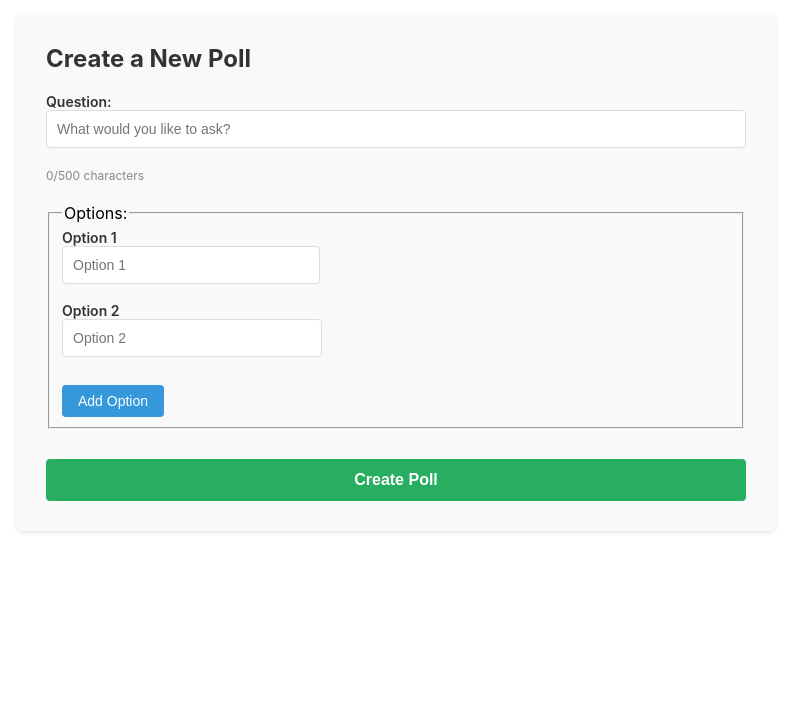
Test: HostDashboard - API Response Handling Contract Tests (Feature #003 Bug Fix) › setPoll receives API response directly (not response.data)
Type "What is your favorite color?" into the field labelled "Question:". click: (396, 129)
box: [46, 110, 746, 148]
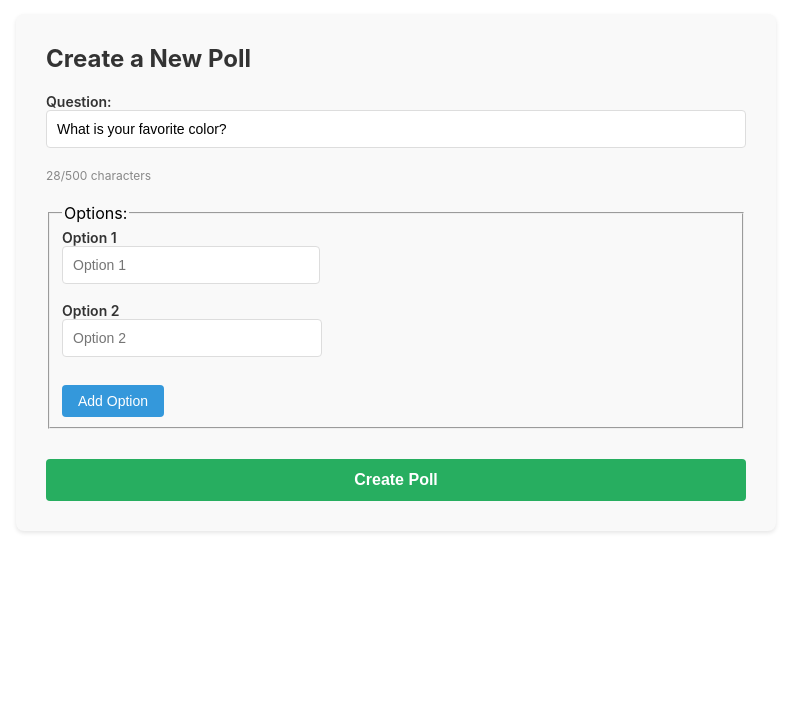
Type "Red" into the field with placeholder "Option 1". click: (191, 264)
box: [62, 246, 320, 284]
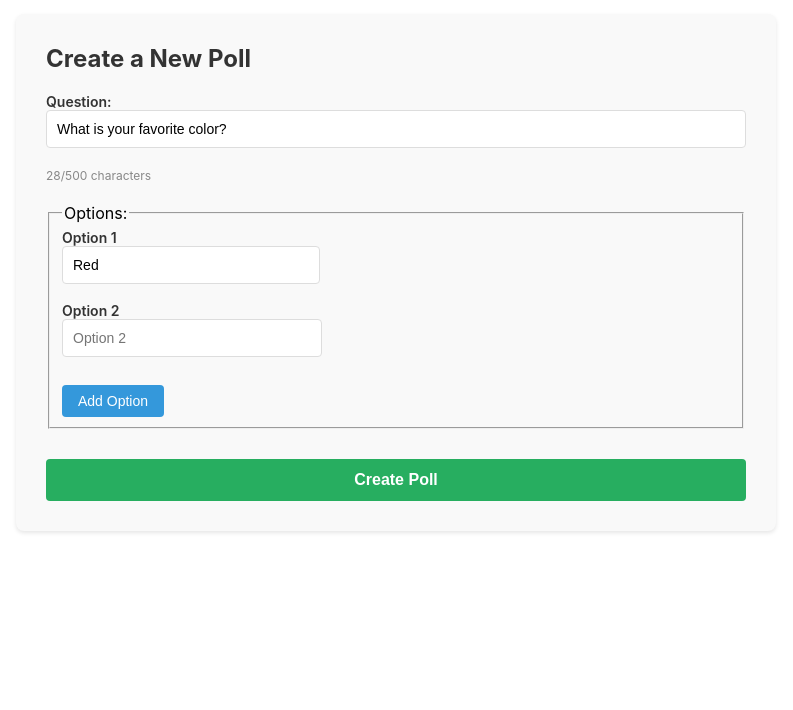
Type "Blue" into the field with placeholder "Option 2". click: (192, 338)
box: [62, 318, 322, 356]
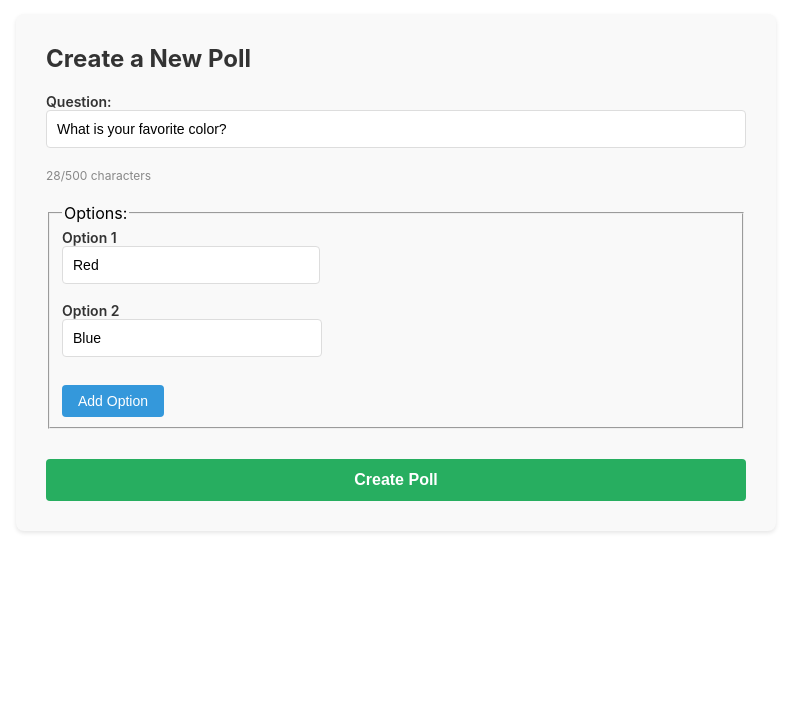
Click the button "Create Poll". click: (396, 480)
box: [46, 458, 746, 500]
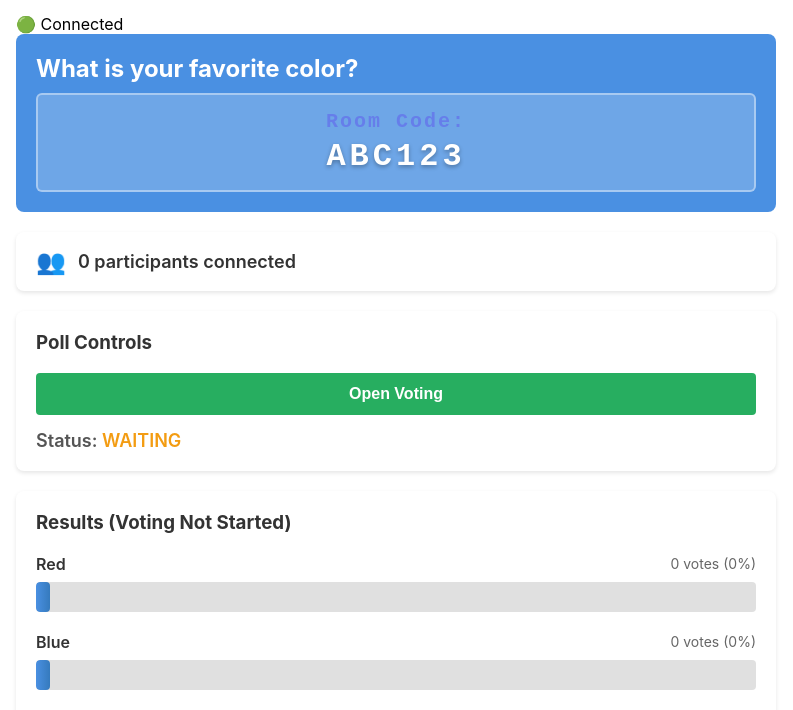
Expected: the text "Room Code: ABC123" is shown, [36, 93, 756, 192]
Expected: the text "ABC123" is shown, [326, 138, 466, 175]
Expected: the heading "What is your favorite color?" is shown, [36, 54, 358, 83]
